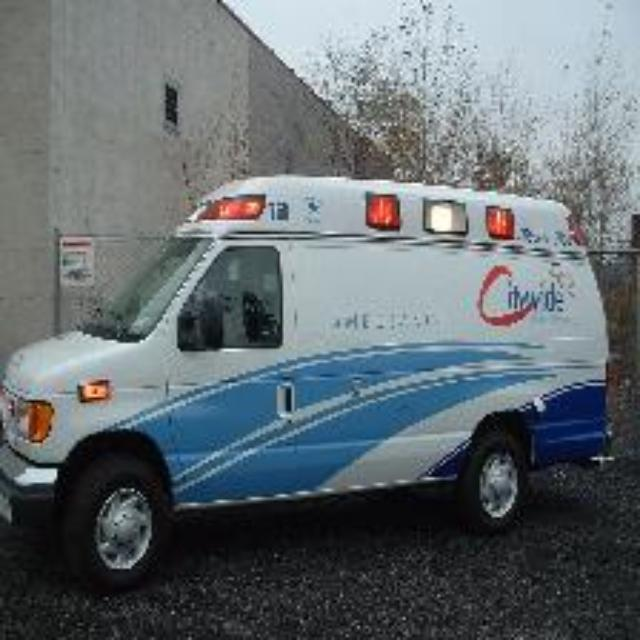emergency: (0, 130, 614, 568)
